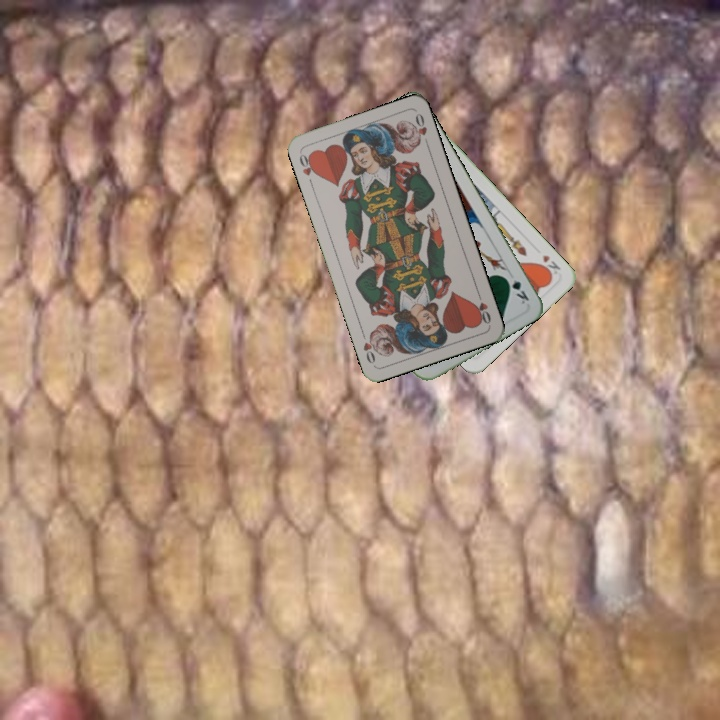GK: (501, 273, 532, 307)
HK: (536, 251, 563, 279)
HO: (471, 288, 494, 327), (295, 149, 320, 178)
